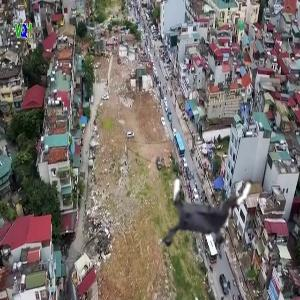drone: (156, 165, 256, 265)
